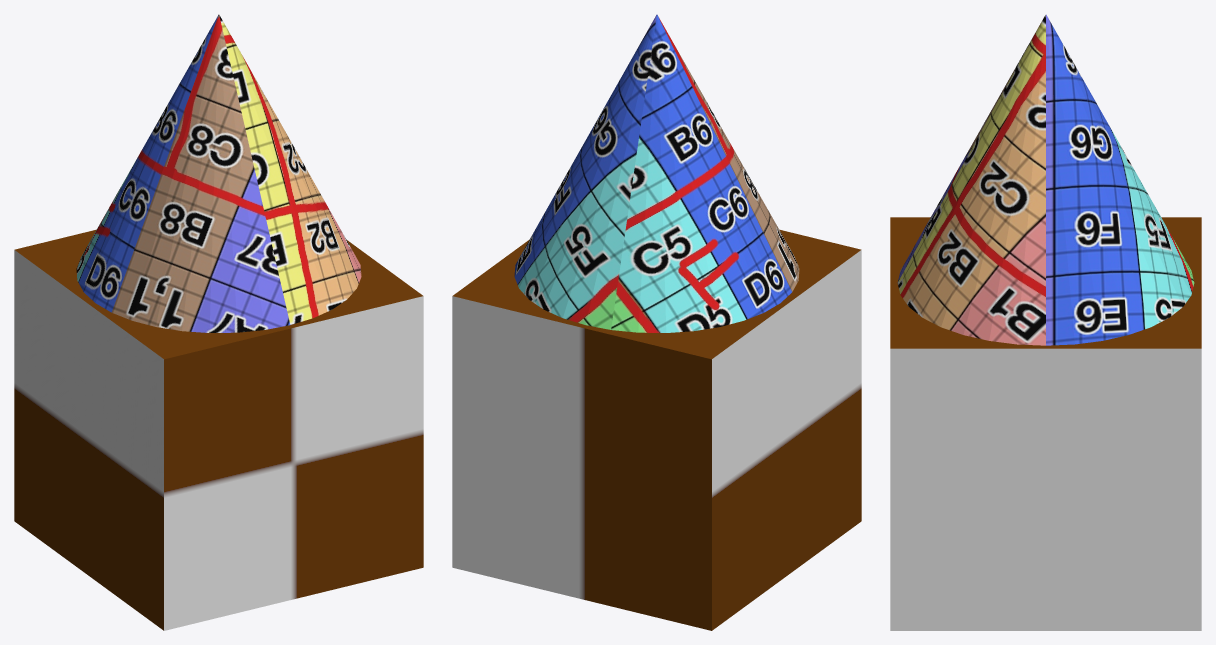
File: parentingTextureMaterial.fbx
3 views of the same model, side by side, from view 1: azimuth 30°, elevation 25°; view 2: azimuth 150°, elevation 25°; view 3: azimuth 270°, elevation 25° (orthographic). The views are drawn at different scales.
Visible parts, largest first — view 1: Cube, Cone; view 2: Cube, Cone; view 3: Cube, Cone.
Part boxes in pixels (bbox=[...]): Cube: bbox=[14, 229, 423, 630]; Cone: bbox=[76, 14, 361, 332]; Cube: bbox=[452, 229, 861, 630]; Cone: bbox=[514, 14, 799, 332]; Cube: bbox=[890, 217, 1201, 630]; Cone: bbox=[897, 14, 1194, 345].
Size of the model in its own units: 2 by 3.91 by 2.
2 materials, 2 textured.
